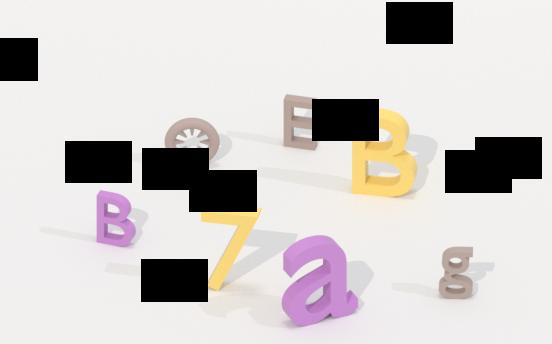7: (198, 196, 264, 296)
E-hoa: (280, 92, 322, 153)
a: (279, 231, 361, 330)
b: (348, 105, 418, 200), (93, 187, 139, 248)
g: (436, 243, 476, 302)
tron: (162, 114, 221, 170)
